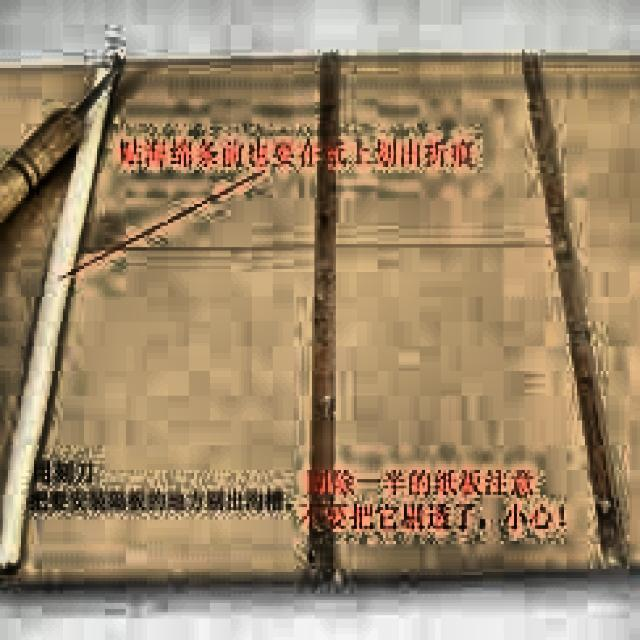cardboard: (0, 49, 637, 587)
